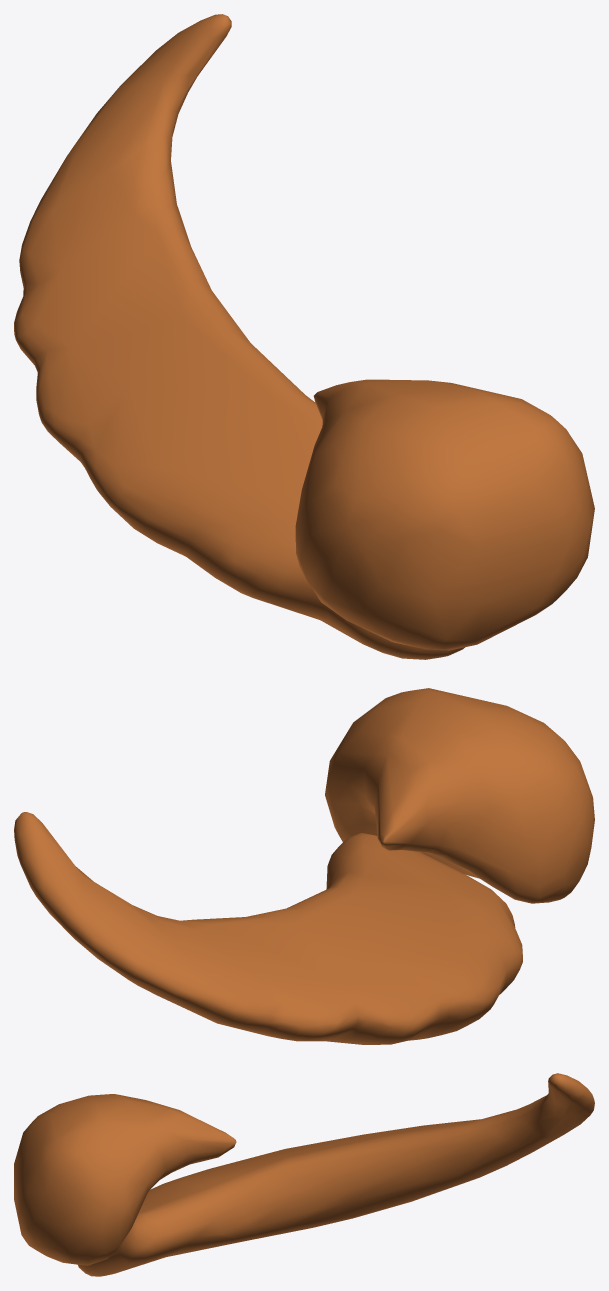
File: Hippo.R.001.fbx
The picture shows the model from 3 angles, top to bottom: view 1: azimuth 30°, elevation 25°; view 2: azimuth 150°, elevation 25°; view 3: azimuth 270°, elevation 25°; orthographic projection. The views are drawn at different scales.
Visible parts, largest first — view 1: Hippocampus.r; view 2: Hippocampus.r; view 3: Hippocampus.r.
Boxes of the visible parts, x1,y1,x2,y2 form: Hippocampus.r: [14, 14, 594, 659]; Hippocampus.r: [14, 688, 594, 1044]; Hippocampus.r: [14, 1073, 594, 1276].
Bounding box in the file's own units: 1.97 × 4.66 × 2.13.
